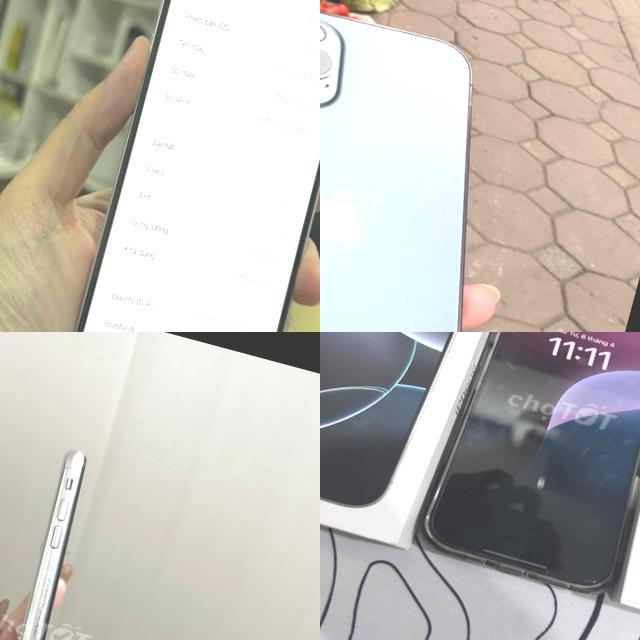gen_12_13: (320, 0, 555, 332)
gen_14: (42, 0, 320, 332)
gen_16: (423, 332, 640, 589)
gen_x_xs: (0, 444, 102, 640)
